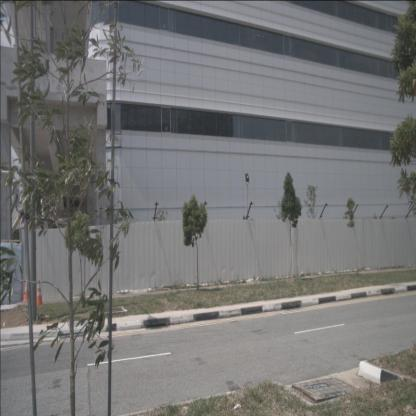cone: (34, 280, 44, 308), (22, 277, 30, 302)
